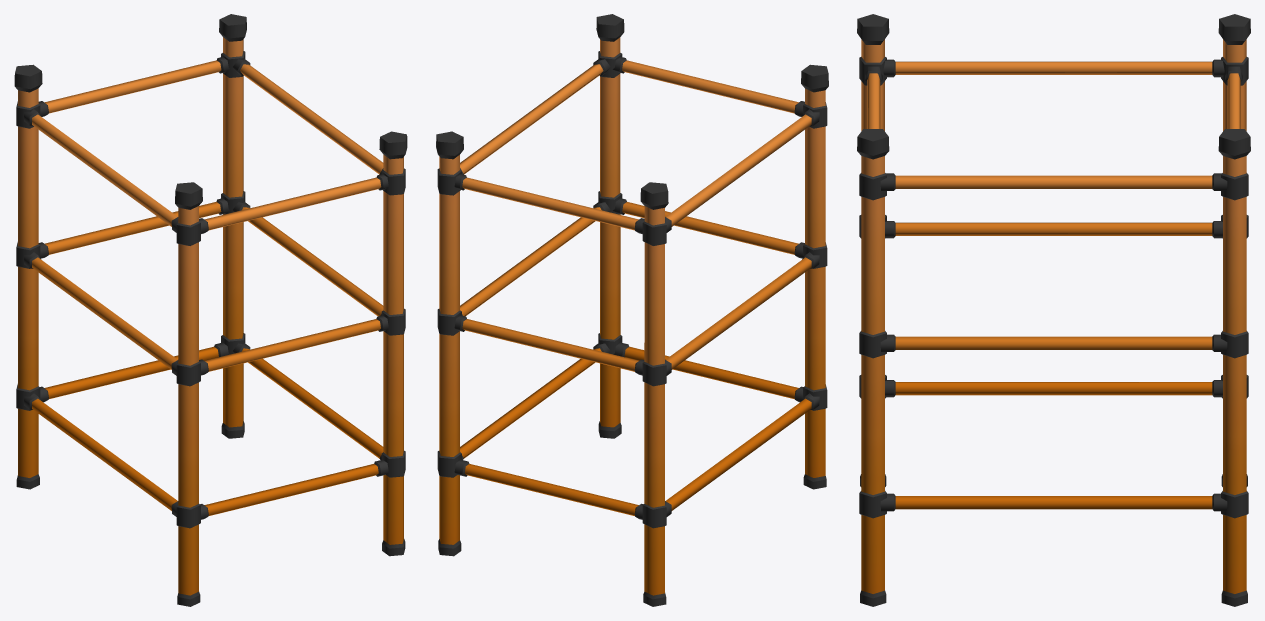
The model's file is Scaffolding_B_1.fbx.
The picture shows the model from 3 angles, left to right: view 1: azimuth 30°, elevation 25°; view 2: azimuth 150°, elevation 25°; view 3: azimuth 270°, elevation 25°; orthographic projection. The views are drawn at different scales.
Visible parts, largest first — view 1: Scaffolding_B_1; view 2: Scaffolding_B_1; view 3: Scaffolding_B_1.
Part boxes in pixels (x1,y1,x2,y2): Scaffolding_B_1: [14, 14, 407, 606]; Scaffolding_B_1: [436, 14, 828, 606]; Scaffolding_B_1: [857, 14, 1250, 606].
Size of the model in its own units: 167 by 285 by 218.
